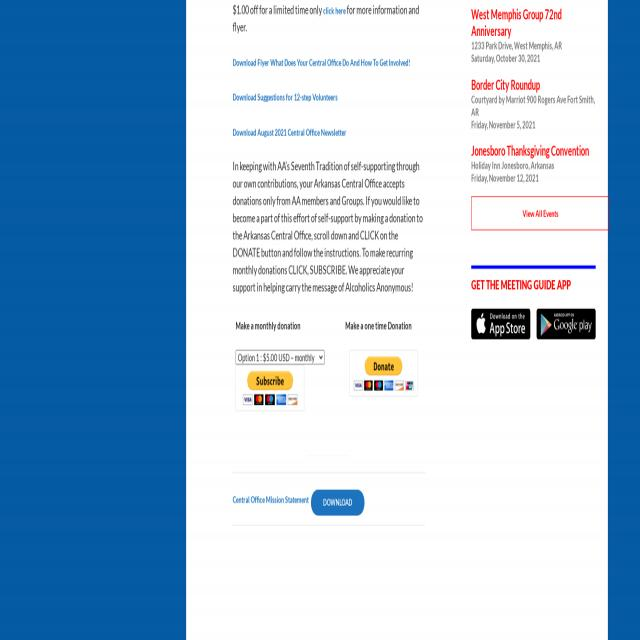button: (471, 196, 609, 232), (236, 364, 304, 412), (349, 351, 417, 398), (536, 309, 596, 339), (472, 309, 530, 339), (312, 490, 364, 517)
field: (236, 350, 324, 364)
